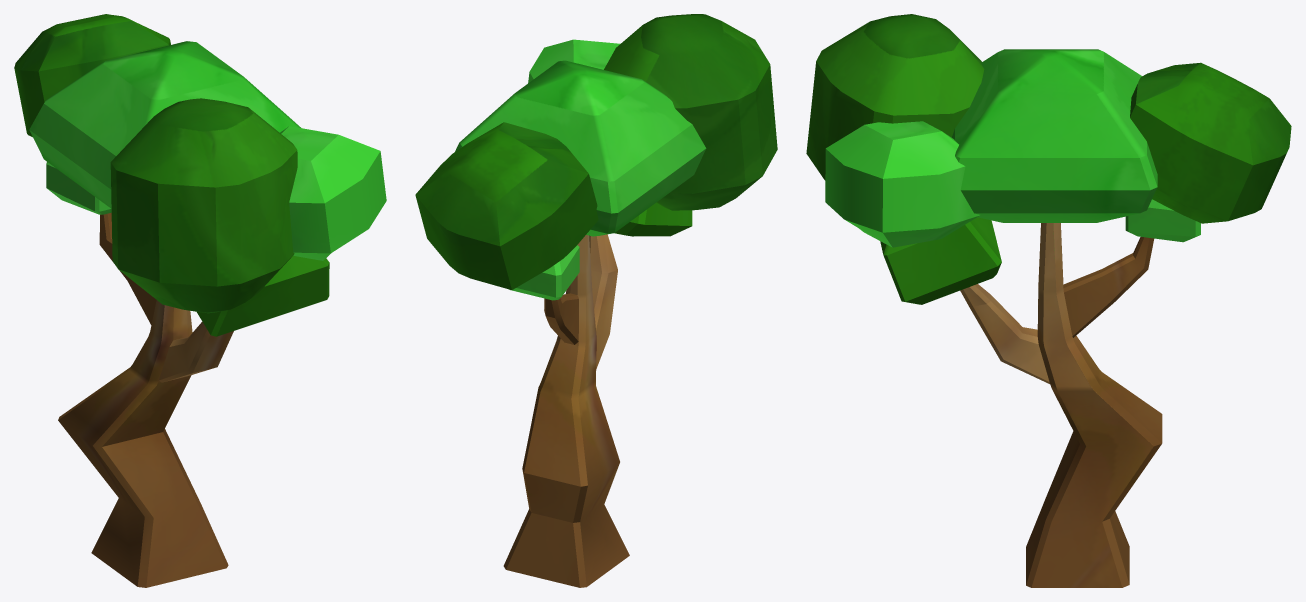
File: TreeGLB.glb
The picture shows the model from 3 angles, left to right: view 1: azimuth 30°, elevation 25°; view 2: azimuth 150°, elevation 25°; view 3: azimuth 270°, elevation 25°; orthographic projection. The views are drawn at different scales.
Parts seen in each view (by area): view 1: pCube1, pCube6, pCube5, pCube2; view 2: pCube1, pCube2, pCube6, pCube5; view 3: pCube1, pCube2, pCube6, pCube5.
Part boxes in pixels (box(x1,y1,x2,y2)): pCube1: box(29, 41, 329, 587); pCube6: box(110, 98, 297, 313); pCube5: box(280, 126, 386, 260); pCube2: box(14, 14, 170, 137); pCube1: box(455, 60, 706, 587); pCube2: box(415, 122, 598, 289); pCube6: box(604, 14, 777, 210); pCube5: box(528, 39, 620, 83); pCube1: box(880, 49, 1200, 587); pCube2: box(1130, 62, 1291, 223); pCube6: box(806, 14, 984, 180); pCube5: box(825, 121, 980, 247).
Bounding box in the file's own units: 0.0784 × 0.1543 × 0.1303.
1 material, 1 textured.
